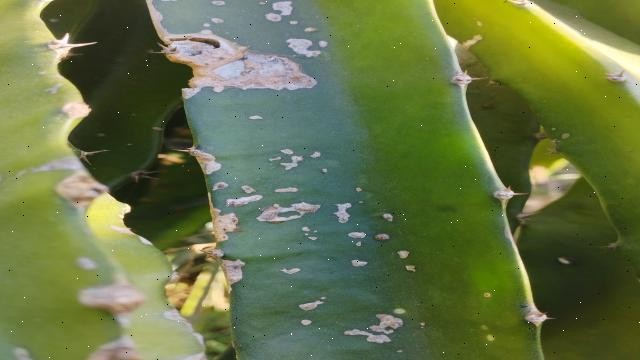stemcanker: (154, 2, 545, 360)
